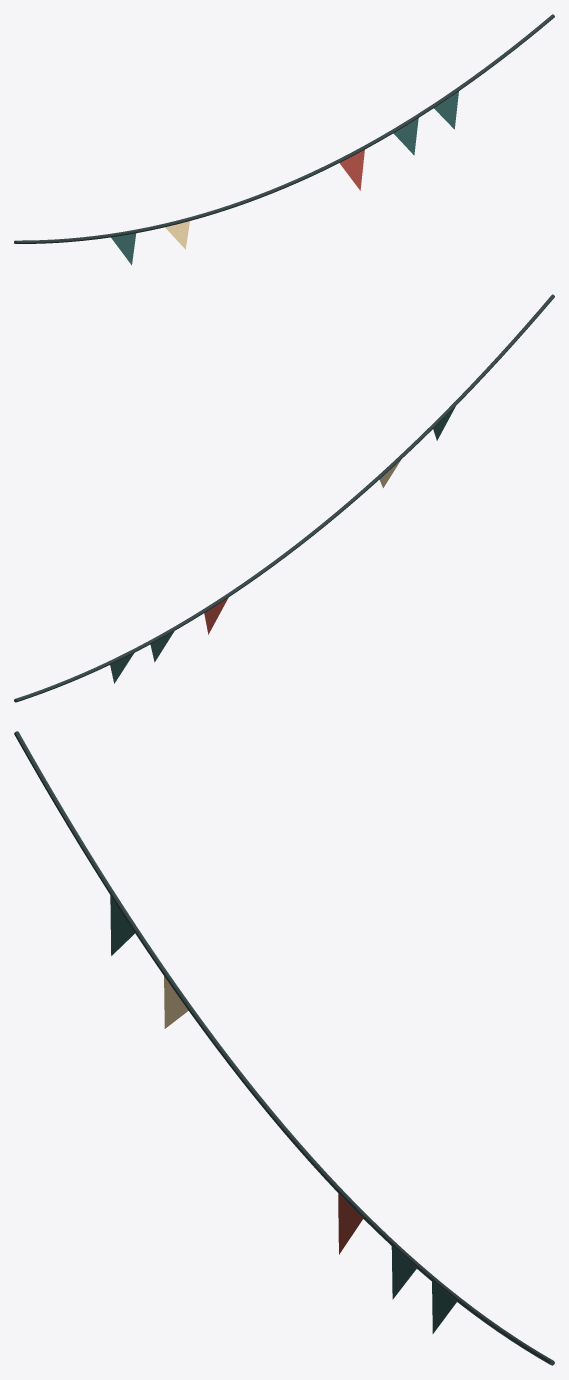
Rendered from StationLine.glb.
The picture shows the model from 3 angles, top to bottom: view 1: azimuth 30°, elevation 25°; view 2: azimuth 210°, elevation 25°; view 3: azimuth 270°, elevation 25°; orthographic projection. The views are drawn at different scales.
Visible parts, largest first — view 1: StationLine; view 2: StationLine; view 3: StationLine.
Boxes of the visible parts, x1=… form: StationLine: x1=14, y1=14, x2=554, y2=265; StationLine: x1=14, y1=294, x2=554, y2=702; StationLine: x1=14, y1=731, x2=554, y2=1365.
Size of the model in its own units: 5.72 by 1.09 by 2.59.
